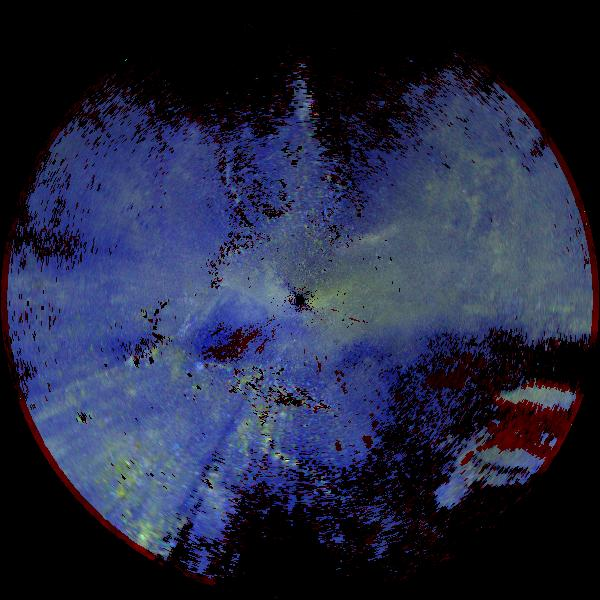roost: (125, 331, 200, 406)
